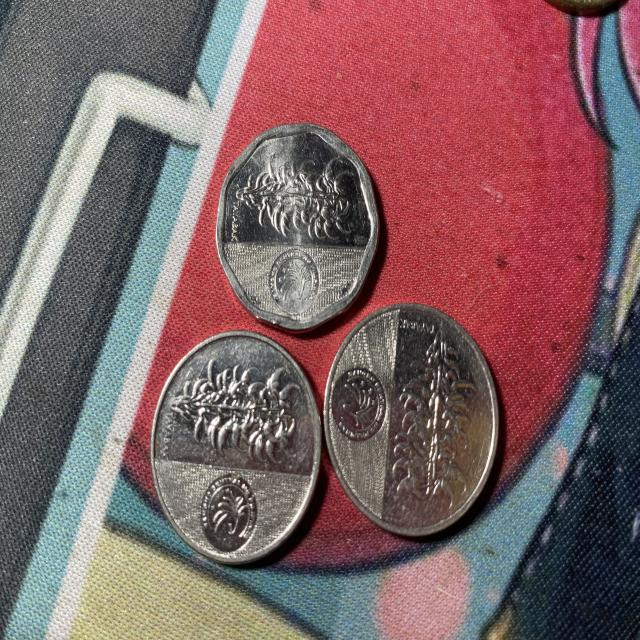5_New_Back: (399, 329, 481, 506), (174, 357, 303, 459), (236, 158, 362, 252)
